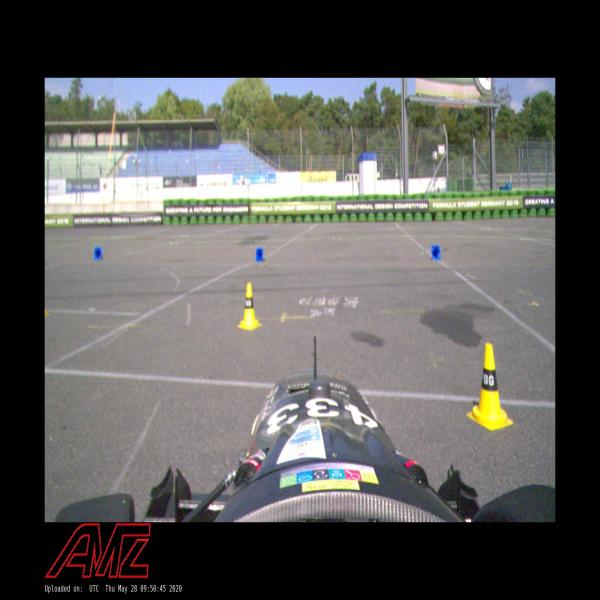blue_cone: (431, 244, 441, 260), (255, 248, 265, 262), (93, 246, 103, 260)
yellow_cone: (466, 342, 513, 430), (237, 282, 262, 331)
